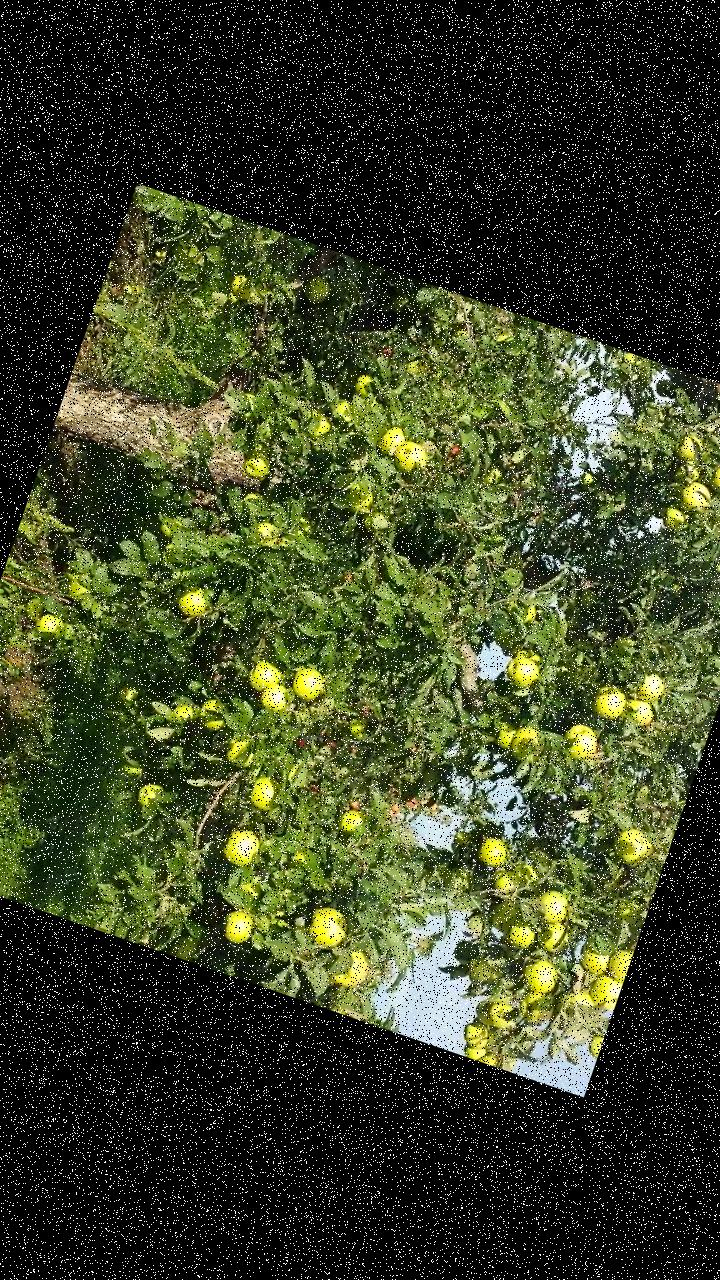Apple: (608, 824, 658, 871), (305, 903, 351, 953), (558, 721, 604, 766), (220, 824, 264, 870), (507, 724, 548, 767), (333, 946, 373, 990), (519, 956, 563, 995), (392, 438, 432, 479), (532, 916, 572, 956), (590, 682, 630, 722), (516, 988, 557, 1027), (502, 652, 542, 691), (247, 774, 285, 815), (246, 657, 285, 696), (288, 666, 326, 704), (586, 971, 622, 1011), (677, 479, 714, 517), (219, 908, 256, 946), (226, 730, 261, 770), (487, 897, 522, 936), (576, 940, 613, 976), (532, 888, 570, 922), (503, 916, 539, 951), (299, 271, 334, 307), (340, 481, 376, 515), (175, 582, 209, 618), (375, 422, 408, 459), (476, 834, 510, 869), (169, 930, 204, 964), (198, 696, 231, 732), (624, 694, 657, 728), (261, 681, 292, 716), (504, 596, 540, 626), (508, 859, 542, 890), (338, 805, 372, 836), (638, 670, 668, 705), (603, 946, 632, 982), (674, 432, 706, 463), (487, 1000, 518, 1031), (227, 272, 258, 303), (242, 450, 274, 480), (236, 392, 262, 428), (560, 985, 598, 1009), (460, 1020, 490, 1050), (330, 398, 360, 428), (491, 719, 520, 750), (473, 996, 501, 1028), (22, 594, 50, 626), (464, 956, 493, 986), (616, 900, 647, 928), (492, 868, 522, 896), (238, 870, 266, 899), (35, 612, 66, 638), (676, 456, 704, 484), (137, 780, 164, 809), (67, 578, 96, 605), (306, 410, 332, 440), (660, 506, 688, 532), (574, 586, 600, 614), (448, 828, 474, 856), (254, 521, 281, 547), (351, 373, 376, 401), (157, 540, 180, 570), (477, 1052, 511, 1072), (462, 1039, 488, 1063), (514, 645, 541, 664), (171, 704, 199, 722), (348, 715, 368, 740), (585, 1034, 603, 1060), (288, 849, 310, 870), (115, 686, 138, 704), (707, 464, 719, 497), (121, 761, 143, 779), (403, 356, 420, 378), (245, 491, 269, 506), (157, 520, 176, 538), (227, 290, 243, 306)
